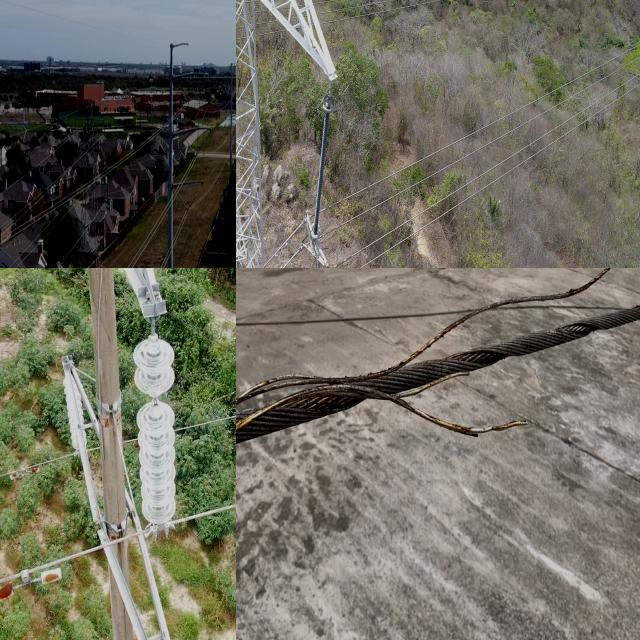杆塔: (53, 268, 210, 640), (236, 0, 354, 268), (72, 91, 110, 268)
正常绝缘子: (130, 332, 183, 536), (311, 85, 334, 264), (59, 352, 92, 457)
电缆破损: (236, 268, 640, 480)
绝缘子破损: (151, 396, 159, 406)
